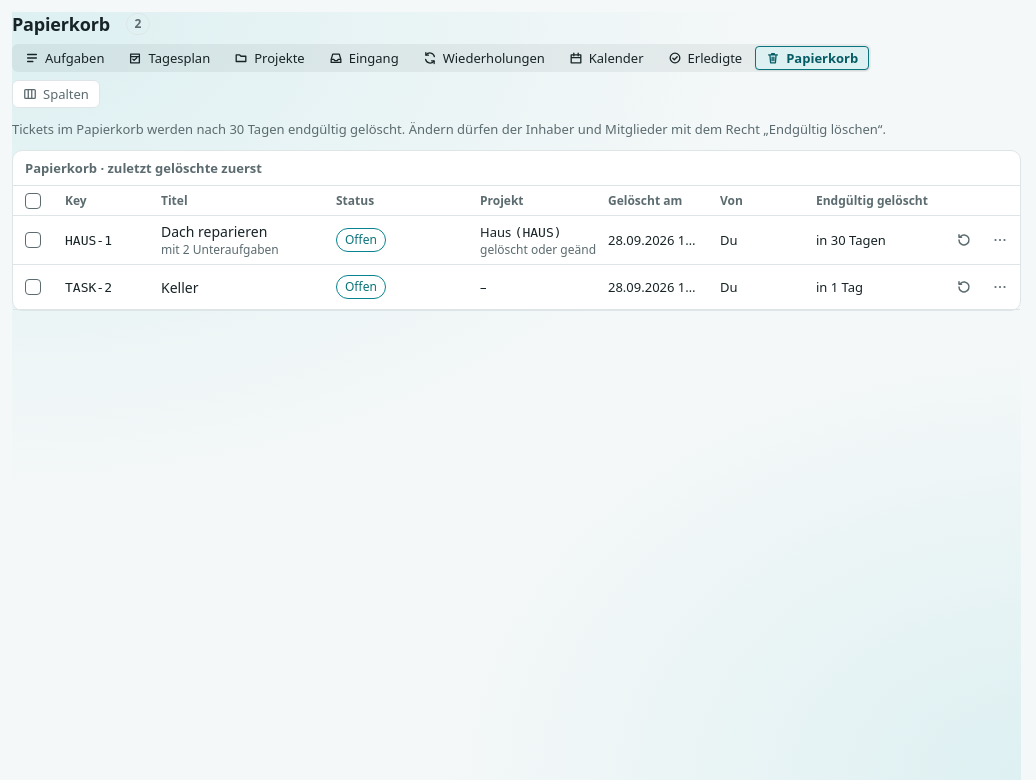
trash of a household without the right "purge" (E7-3, ADR-0059 §6) › offers restoring but neither "Endgültig löschen …" nor "Papierkorb leeren …"
Expected: the text "Ändern dürfen der Inhaber und Mitglieder" is shown, [409,120,886,138]
Click the checkbox named "HAUS-1 auswählen" at (33, 240), box [25,232,41,248]
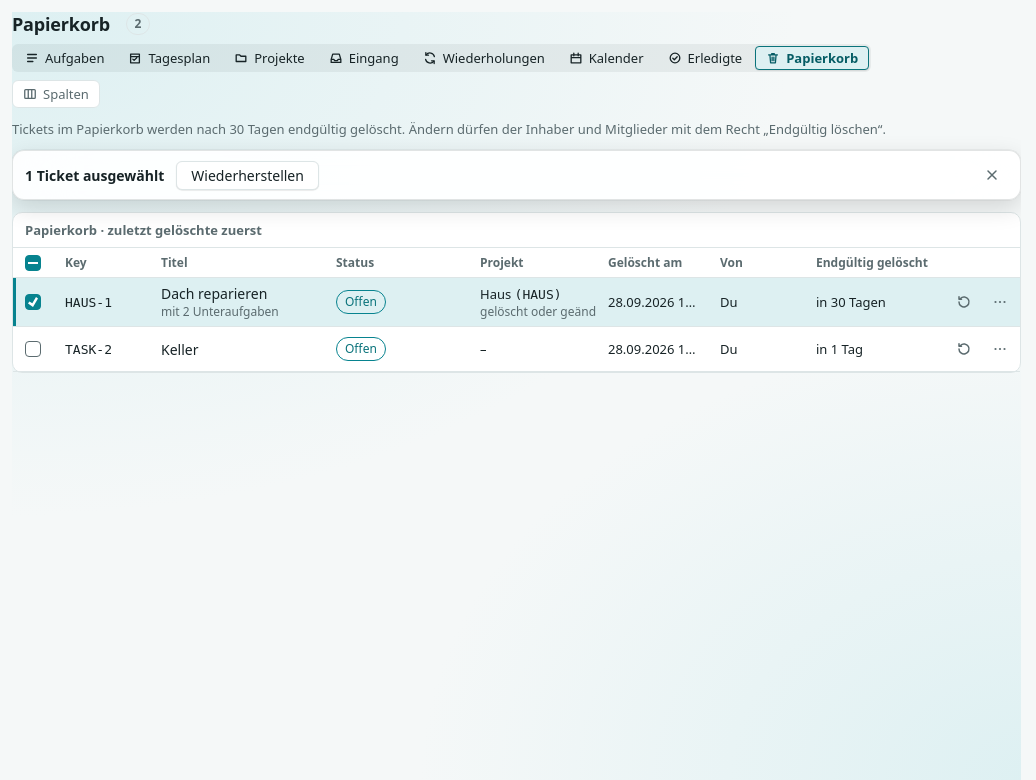
Expected: the button "Wiederherstellen" is shown, [176,160,319,190]
